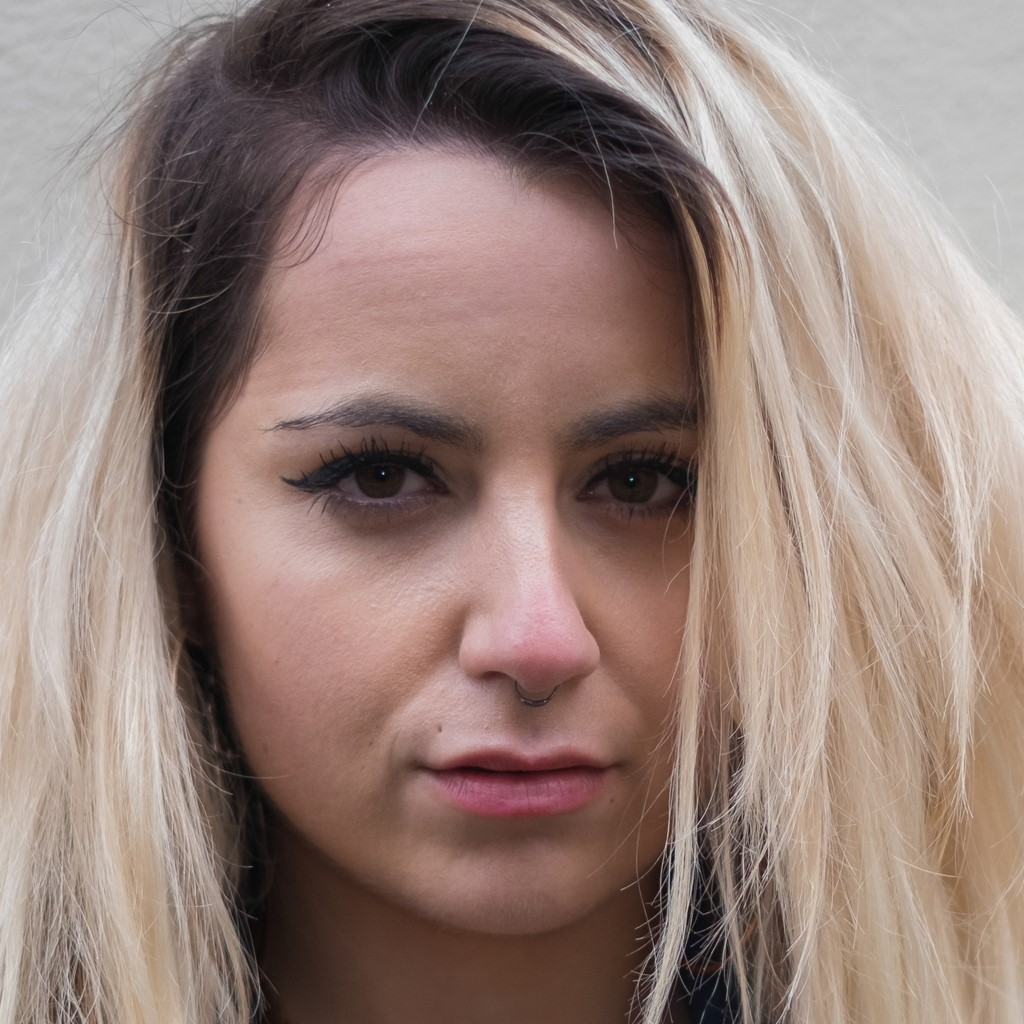sin_mascara: (143, 64, 841, 943)
